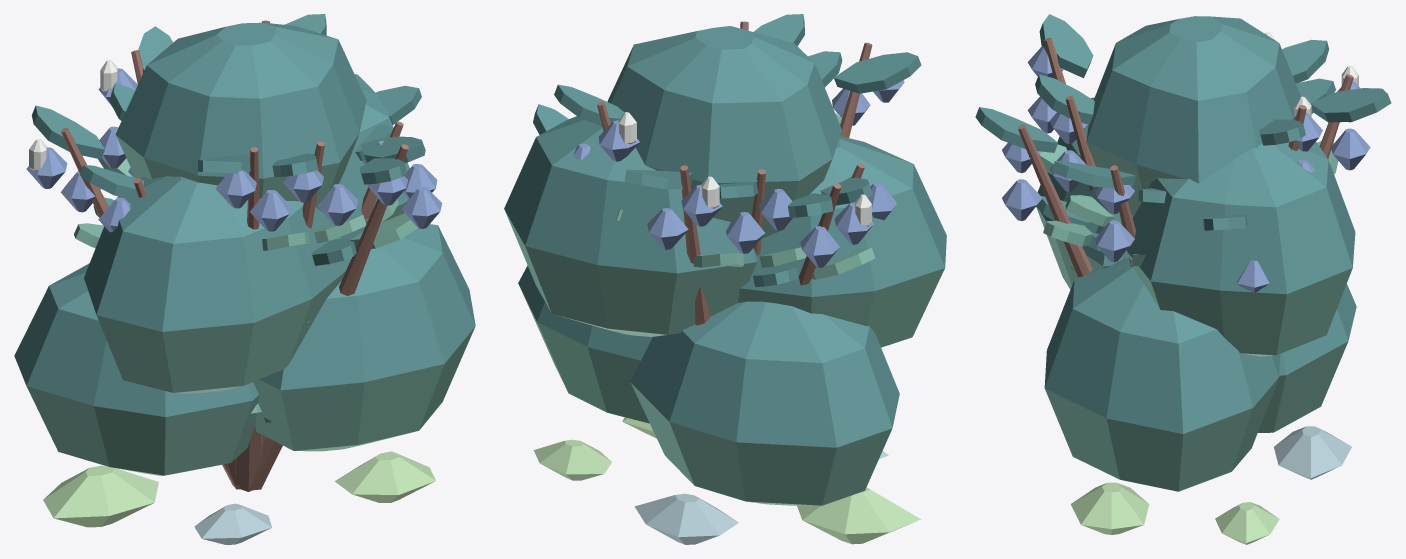
The model's file is lagoon_shrub_evergreen_huckleberry.glb.
3 renders of one model, left to right at view 1: azimuth 30°, elevation 25°; view 2: azimuth 150°, elevation 25°; view 3: azimuth 270°, elevation 25°, orthographic.
Visible parts, largest first — view 1: lagoon_shrub_evergreen_huckleberry.001; view 2: lagoon_shrub_evergreen_huckleberry.001; view 3: lagoon_shrub_evergreen_huckleberry.001.
Part boxes in pixels (x1=…): lagoon_shrub_evergreen_huckleberry.001: x1=14, y1=14, x2=475, y2=544; lagoon_shrub_evergreen_huckleberry.001: x1=504, y1=14, x2=946, y2=544; lagoon_shrub_evergreen_huckleberry.001: x1=975, y1=14, x2=1391, y2=544.
Size of the model in its own units: 2.04 by 2.19 by 1.8.
